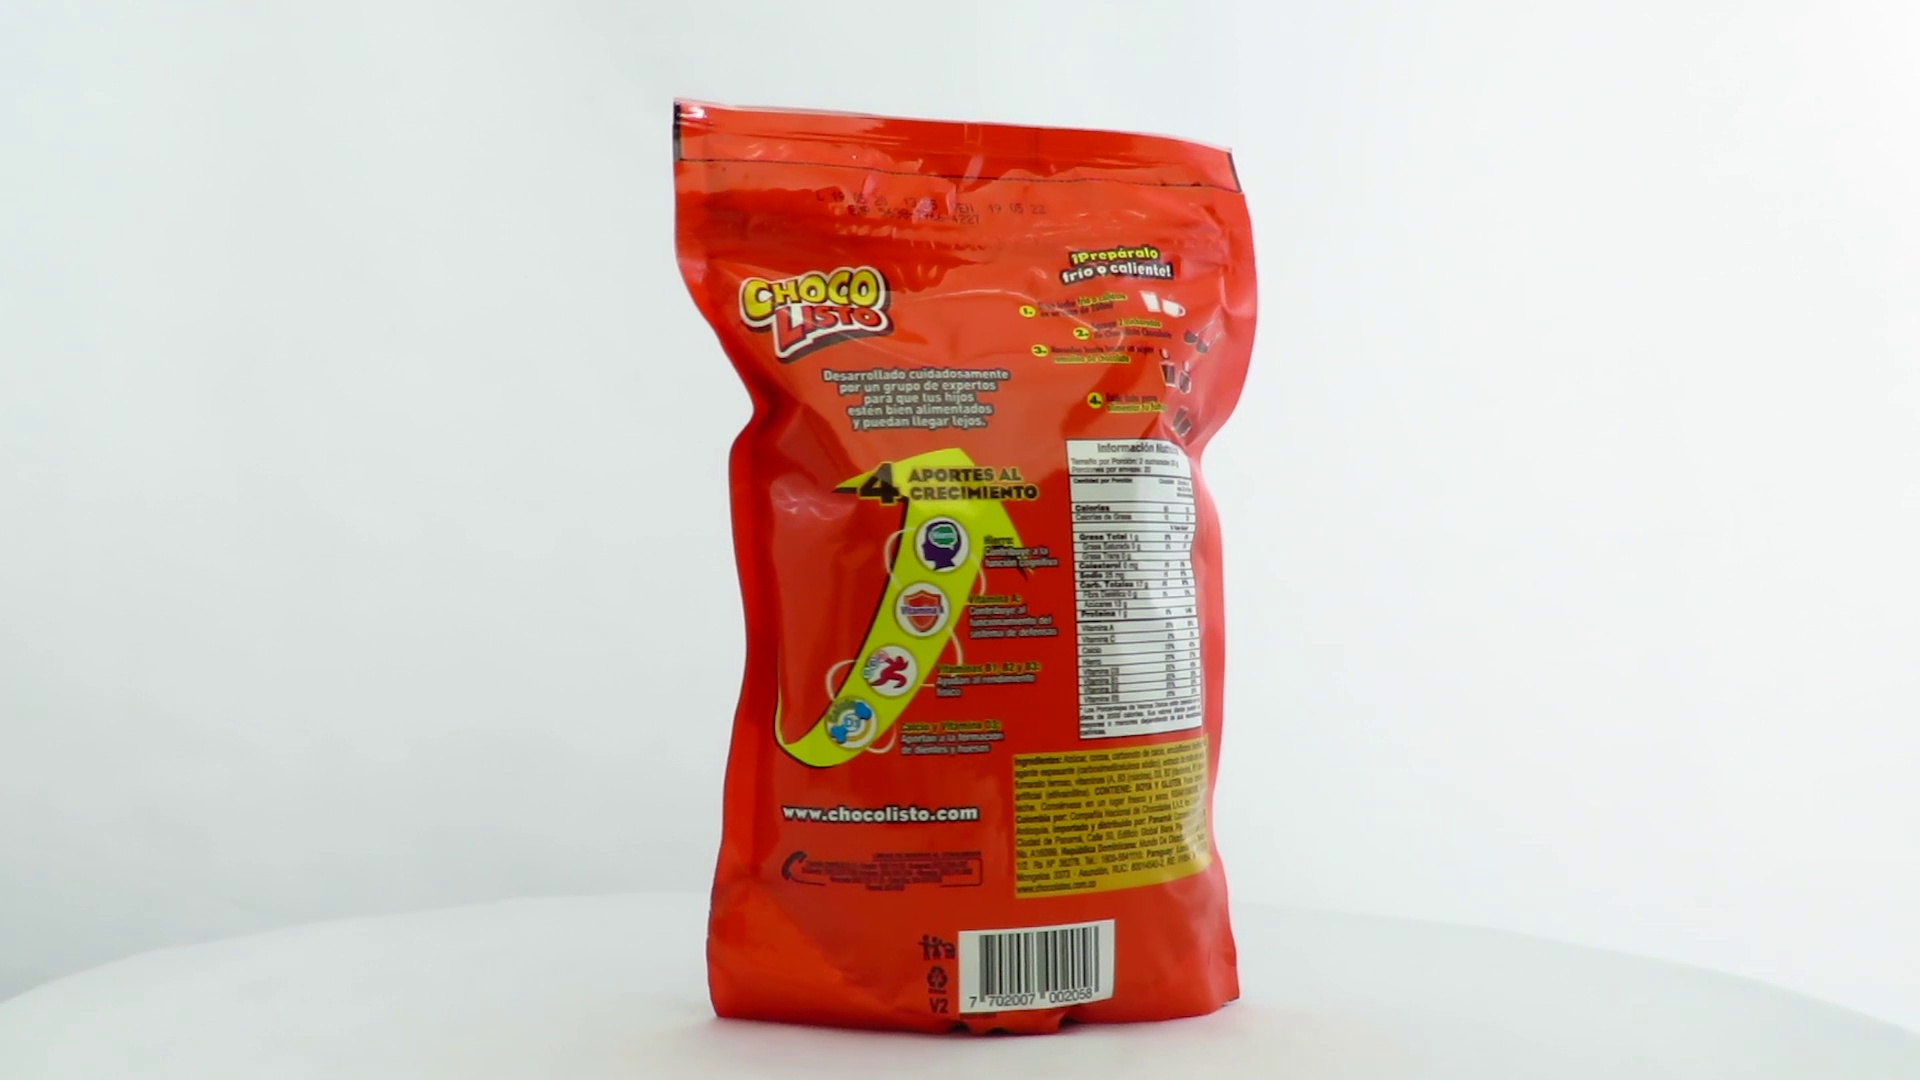COL0170103DYP40000: (667, 92, 1265, 1033)
